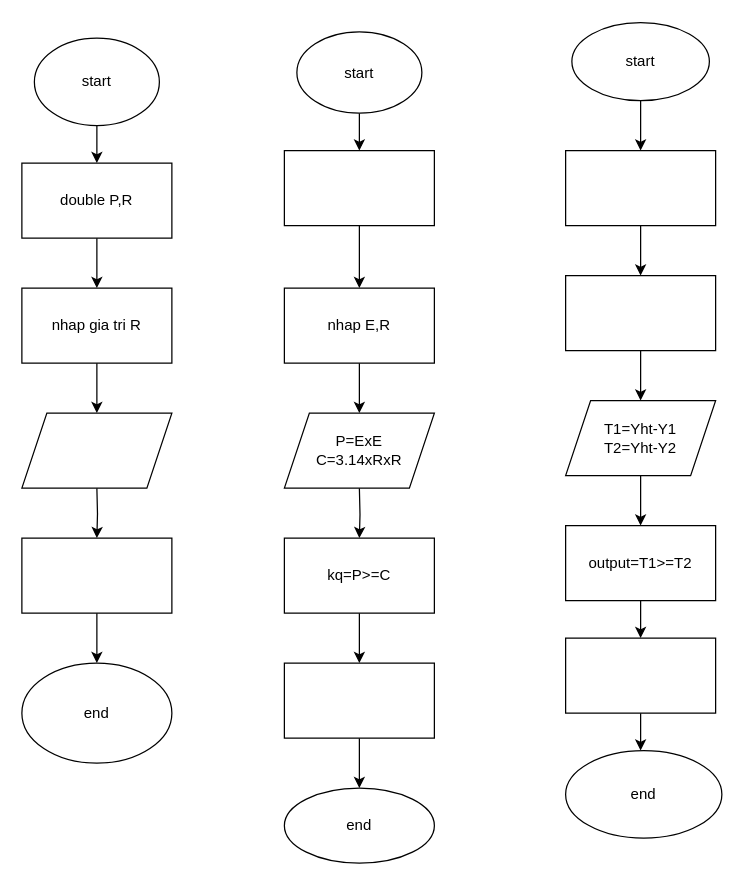
The diagram is 744 pixels wide and 885 high, and some of its shapes have lost their labels. Each missing label, with the centre of its shape:
"E,R,A1,C1,KQ" goes at point 358,187.
"Lay D,M,Y hien tai" goes at point 640,312.
"nhap D1,M1,Y1,D2,M2,Y2" goes at point 640,187.
"P=2x3.14xR" goes at point 96,450.
"xuat kq" goes at point 358,700.
"xuat output" goes at point 640,675.
"xuat ra man hinh" goes at point 96,575.
